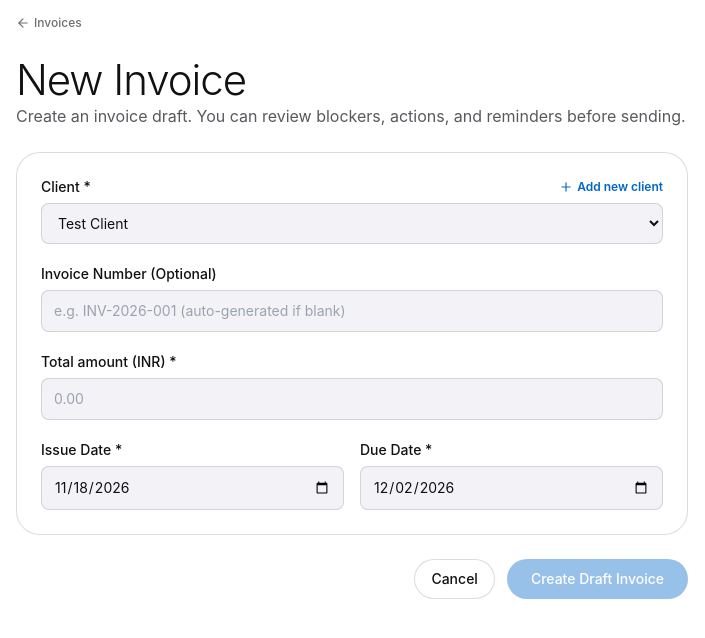
Scenario: Phase 11 Step 2: Visual Bugs & Fixes › 2.6 NewInvoicePage Form Validation › disables submit button when required amount is missing or due date is before issue date
Expected: the button "Create Draft Invoice" is disabled, x1=507 y1=559 x2=688 y2=599
// Enter valid amount
Type "1500.00" into the number field with placeholder "0.00".
click(352, 399); type("1500.00")  # box x1=41 y1=378 x2=663 y2=420
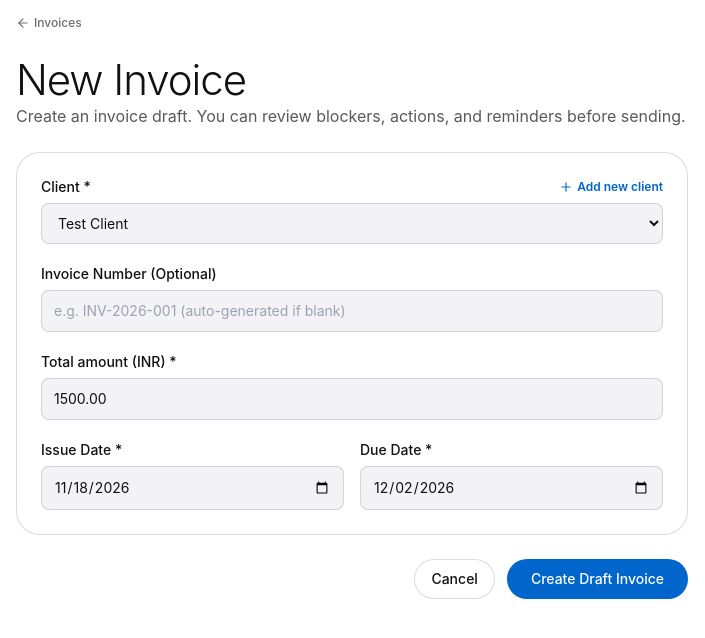
Result: the button "Create Draft Invoice" is enabled at x1=507 y1=559 x2=688 y2=599
// Issue date is first, Due date is second
Type "2026-11-20" into the date field below "Issue Date *".
click(192, 488); type("2026-11-20")  # box x1=41 y1=466 x2=344 y2=510
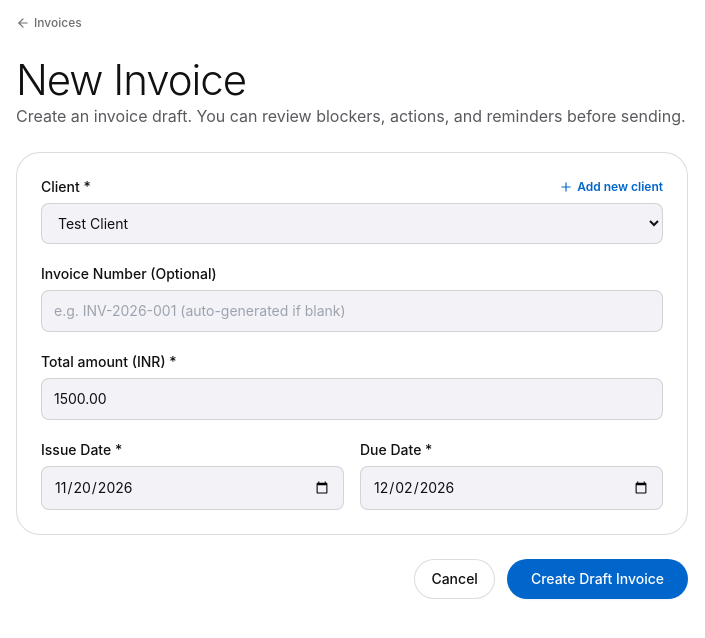
Type "2026-11-10" into the date field below "Due Date *".
click(512, 488); type("2026-11-10")  # box x1=360 y1=466 x2=663 y2=510
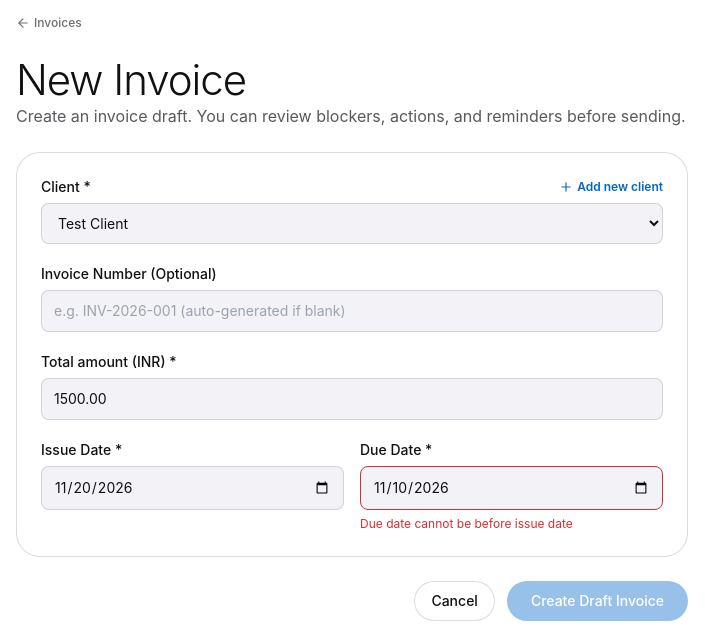
Result: the text "Due date cannot be before issue date" is shown at x1=360 y1=516 x2=573 y2=531
Result: the button "Create Draft Invoice" is disabled at x1=507 y1=581 x2=688 y2=621
